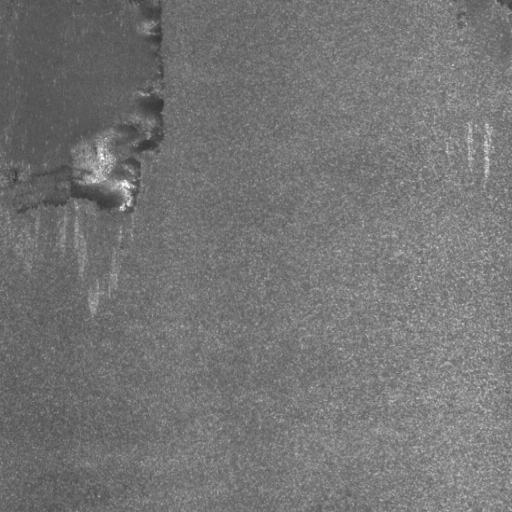aokeng: (58, 113, 169, 221)
